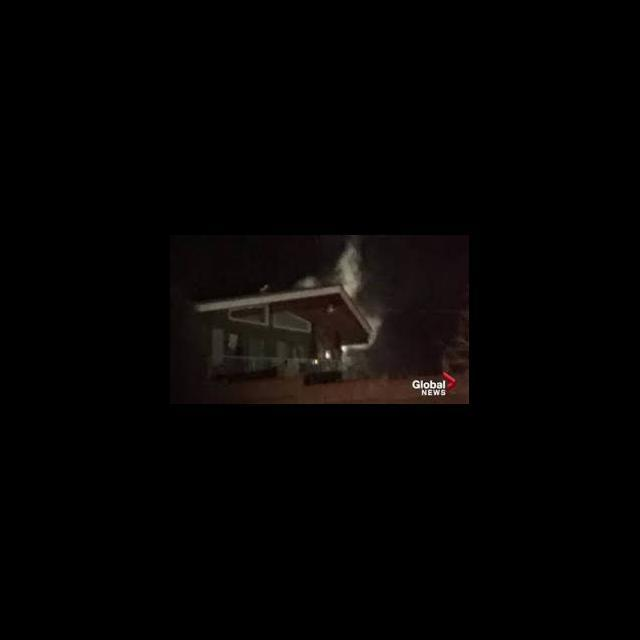Smoke: (330, 240, 368, 300)
